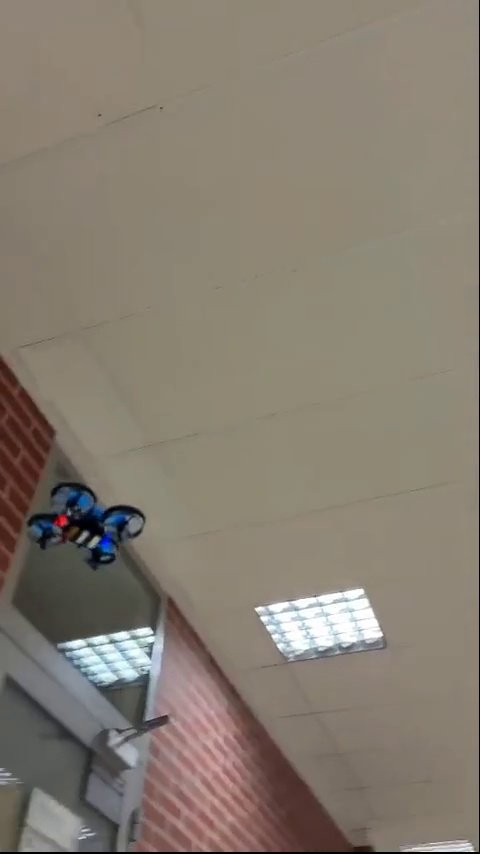drone: (23, 481, 146, 569)
